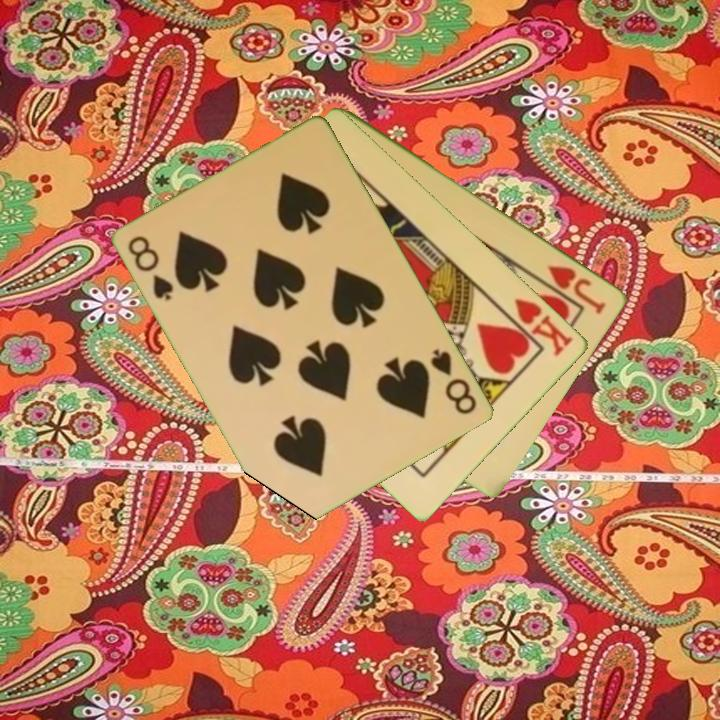8s: (124, 232, 178, 304), (427, 345, 480, 418)
Jh: (544, 261, 610, 317)
Kh: (498, 294, 577, 360)
